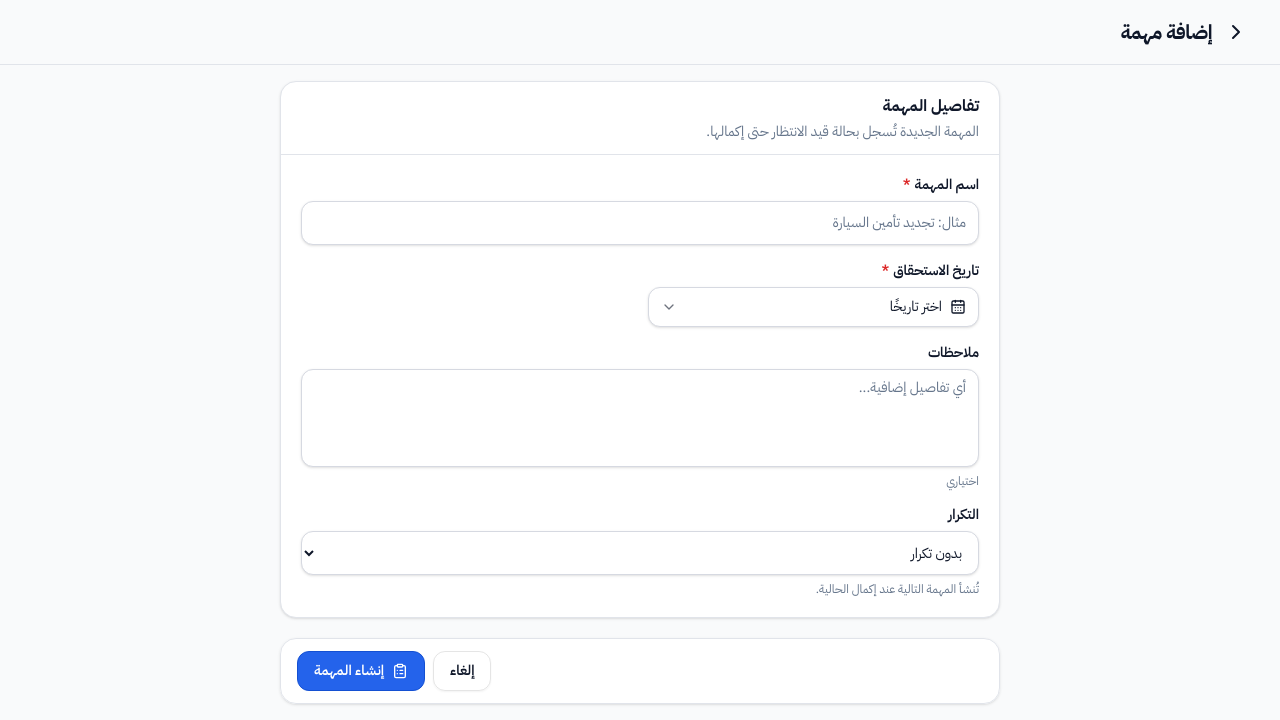
Test: AddTaskPage › rejects submission when the due date is missing
This screenshot has width=1280, height=720.
Click the button "إنشاء المهمة" at {"x": 361, "y": 671}, box [297,651,425,691]
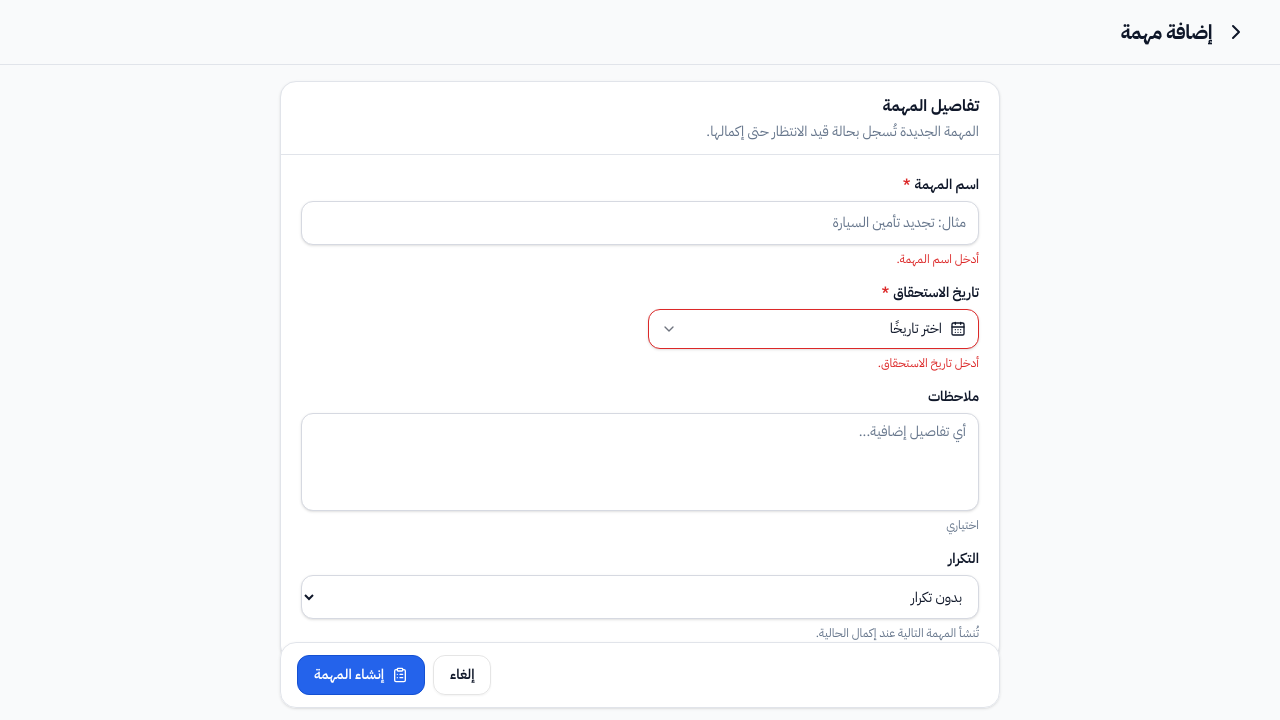
Now the text "أدخل تاريخ الاستحقاق." is shown, box [878,354,979,372]
